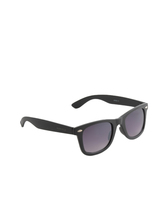glasses: (21, 90, 152, 152)
